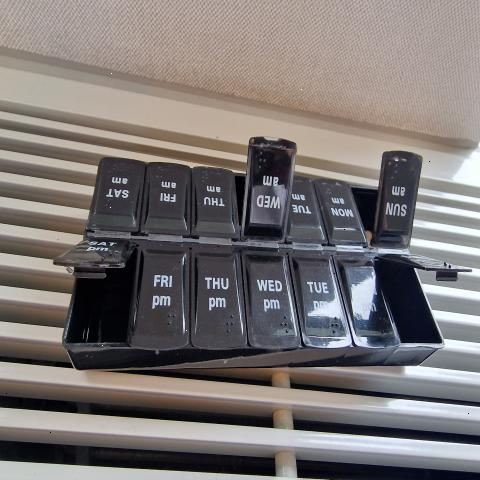Open: (55, 247, 136, 344), (376, 262, 446, 349), (355, 164, 383, 247), (235, 172, 246, 232)
